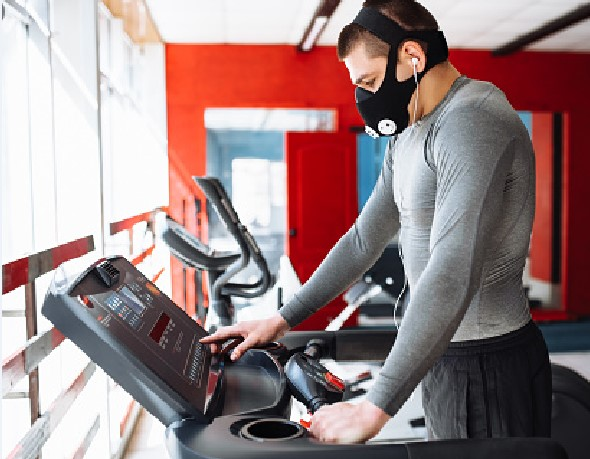face_with_mask: (334, 4, 449, 138)
